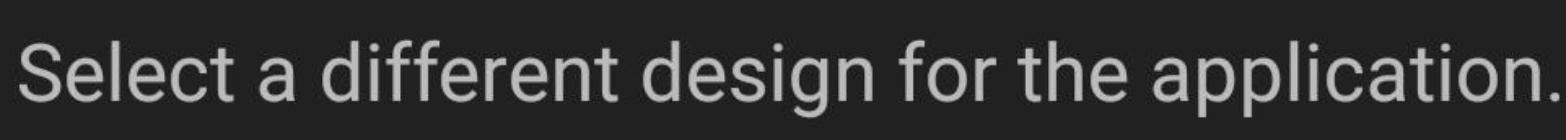TextView: (1, 1, 1565, 139)
